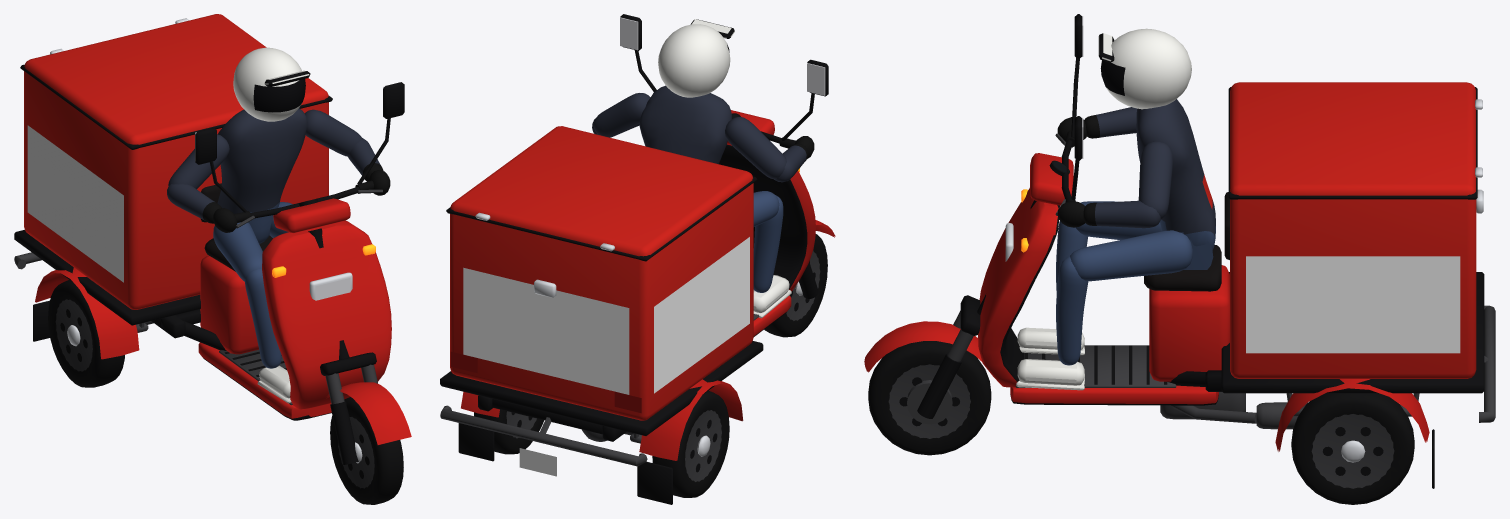
File: bike_cargo.glb
3 renders of one model, left to right at view 1: azimuth 30°, elevation 25°; view 2: azimuth 150°, elevation 25°; view 3: azimuth 270°, elevation 25°, orthographic. The views are drawn at different scales.
Parts seen in each view (by area): view 1: cargo_body, steer_mesh, rider_body, wheel_rear, wheel_front, rider_head, rider_shin_L, rider_thigh_L, rider_farm_L, rider_uarm_R, rider_uarm_L, rider_farm_R; view 2: cargo_body, wheel_rear, rider_body, rider_head, steer_mesh, rider_shin_L, wheel_front, rider_uarm_L, rider_uarm_R, rider_farm_L, rider_thigh_L; view 3: cargo_body, wheel_rear, wheel_front, steer_mesh, rider_body, rider_head, rider_thigh_R, rider_shin_R, rider_farm_R, rider_uarm_R, rider_shin_L, rider_farm_L (+1 smaller).
Boxes of the visible parts, left/top/right/bottom form: cargo_body: left=14, top=14, right=391, bottom=420; steer_mesh: left=195, top=82, right=411, bottom=464; rider_body: left=217, top=108, right=307, bottom=243; wheel_rear: left=48, top=280, right=124, bottom=387; wheel_front: left=330, top=397, right=403, bottom=504; rider_head: left=233, top=47, right=310, bottom=121; rider_shin_L: left=245, top=268, right=291, bottom=403; rider_thigh_L: left=213, top=222, right=262, bottom=281; rider_farm_L: left=167, top=184, right=237, bottom=232; rider_uarm_R: left=304, top=109, right=362, bottom=156; rider_uarm_L: left=168, top=134, right=229, bottom=189; rider_farm_R: left=348, top=138, right=390, bottom=195; cargo_body: left=440, top=126, right=815, bottom=504; wheel_rear: left=474, top=390, right=729, bottom=497; rider_body: left=639, top=85, right=731, bottom=164; rider_head: left=658, top=19, right=734, bottom=97; steer_mesh: left=620, top=14, right=835, bottom=298; rider_shin_L: left=753, top=195, right=791, bottom=318; wheel_front: left=764, top=234, right=827, bottom=337; rider_uarm_L: left=725, top=116, right=786, bottom=179; rider_uarm_R: left=593, top=93, right=650, bottom=137; rider_farm_L: left=774, top=136, right=814, bottom=182; rider_thigh_L: left=753, top=191, right=779, bottom=226; cargo_body: left=978, top=82, right=1495, bottom=488; wheel_rear: left=1291, top=393, right=1414, bottom=504; wheel_front: left=868, top=341, right=991, bottom=455; steer_mesh: left=864, top=14, right=1083, bottom=418; rider_body: left=1136, top=99, right=1215, bottom=269; rider_head: left=1098, top=28, right=1191, bottom=109; rider_thigh_R: left=1070, top=230, right=1192, bottom=281; rider_shin_R: left=1016, top=256, right=1088, bottom=390; rider_farm_R: left=1057, top=200, right=1160, bottom=228; rider_uarm_R: left=1138, top=141, right=1172, bottom=219; rider_shin_L: left=1017, top=221, right=1087, bottom=355; rider_farm_L: left=1057, top=107, right=1136, bottom=141.
Bounding box in the file's own units: 1.04 × 1.73 × 2.36.
